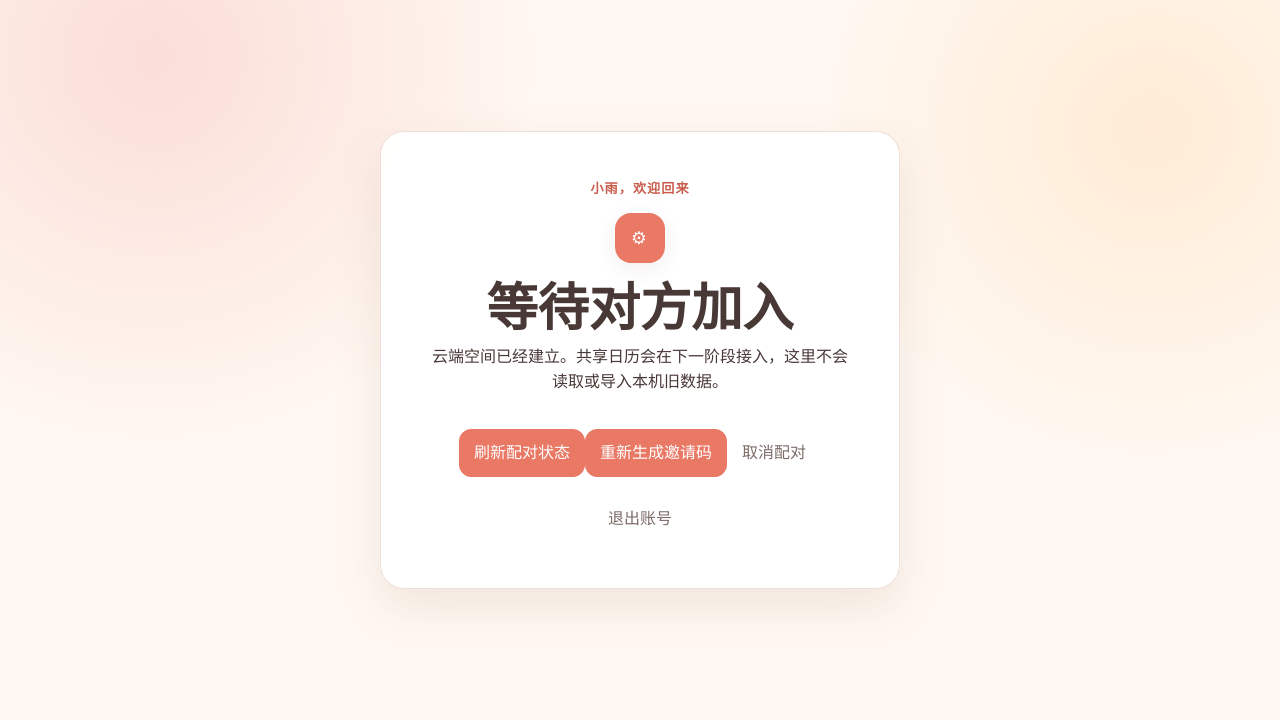
Test case: lets a single member regenerate a one-time visible invite
What coordinates should you click on to do the following:
click the button "重新生成邀请码"
I would click on:
 (656, 453)
Its box is [585, 429, 727, 476].
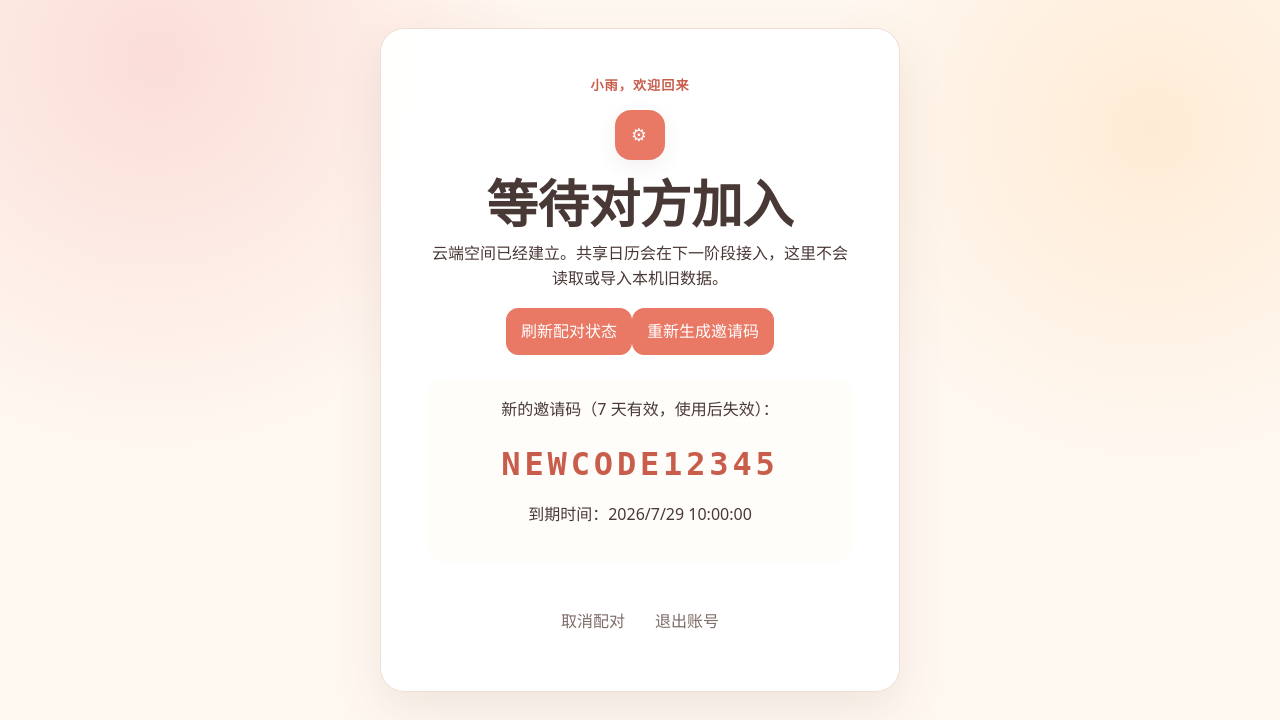
Expected: the text "NEWCODE12345" is shown, [501, 445, 779, 483]
